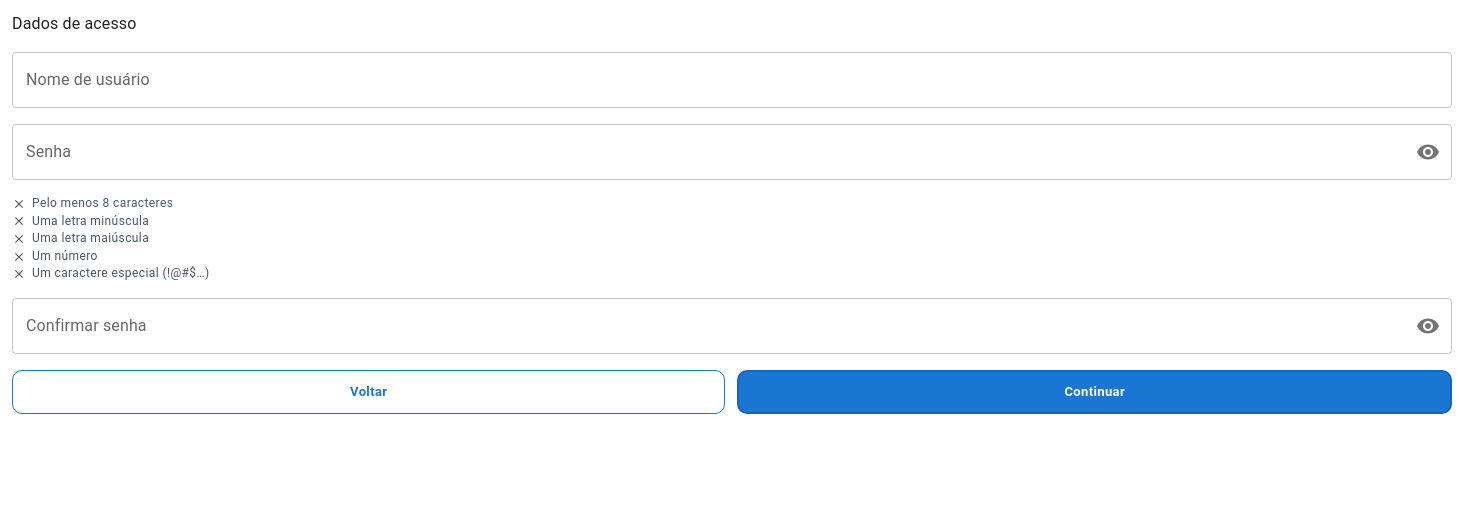
Test: AccessCredentialsStep component › shows a red unavailable mark when the backend says the username is taken
In the field labelled "Nome de usuário": (732, 80) [12, 52, 1452, 108], type "allanna"
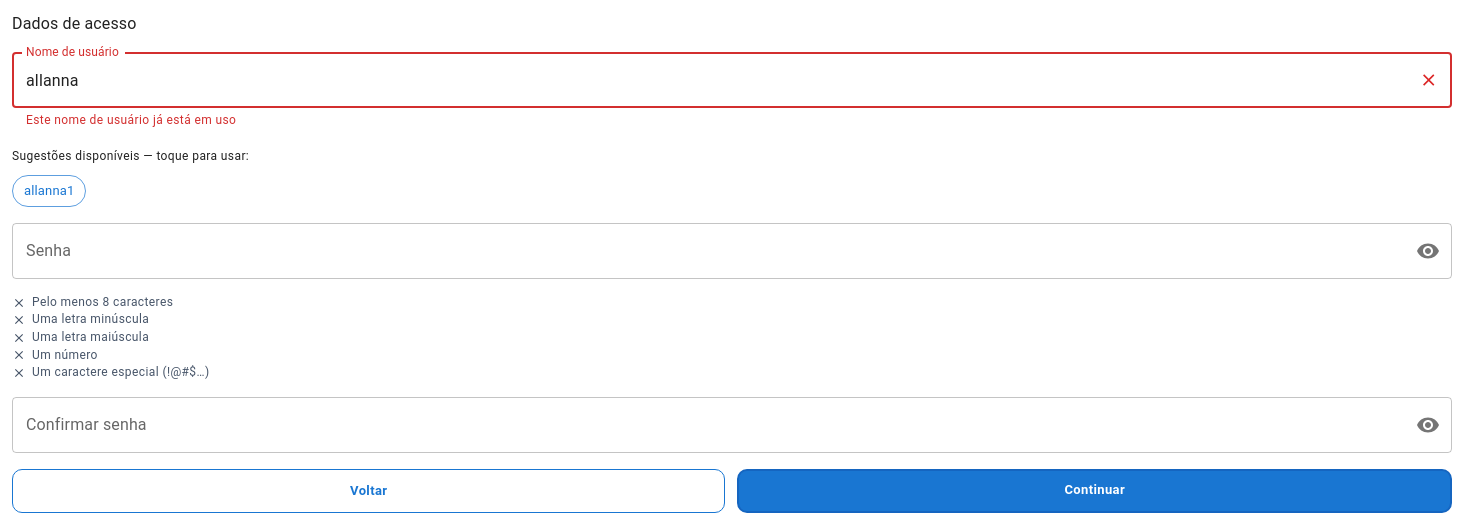
Now the text "Este nome de usuário já está em uso" is shown, box [26, 113, 236, 127]
Now the 1st icon with test id "CloseIcon" is shown, box [1419, 70, 1438, 90]
Now the button with aria-label "usar nome de usuário allanna1" is shown, box [12, 175, 86, 207]
